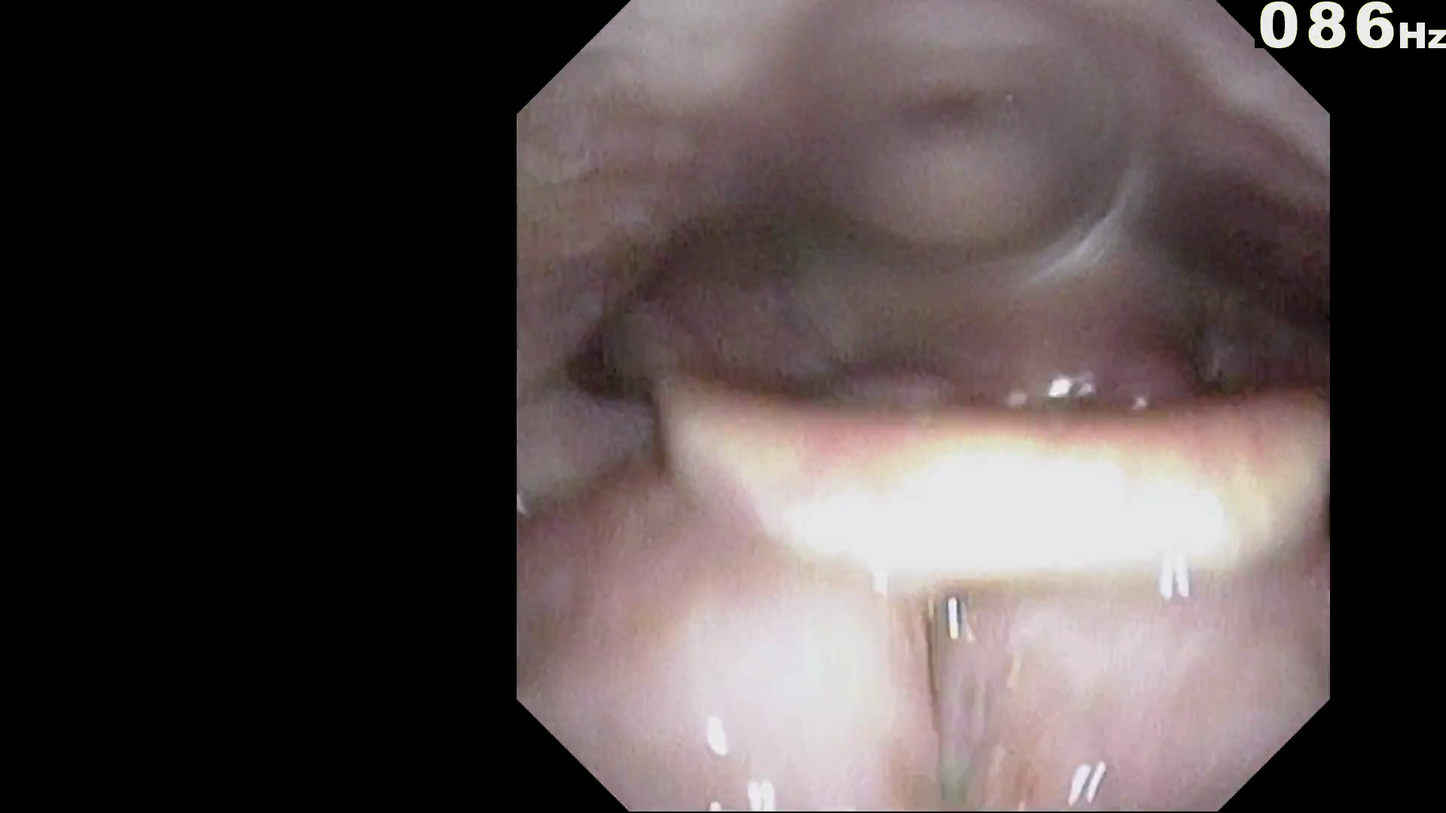epiglottis: (650, 444, 1287, 669)
